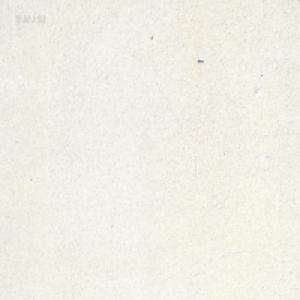Nail: (197, 57, 204, 63)
